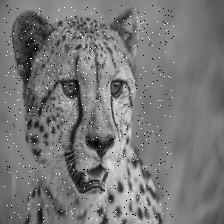Cheetha: (3, 6, 173, 224)
